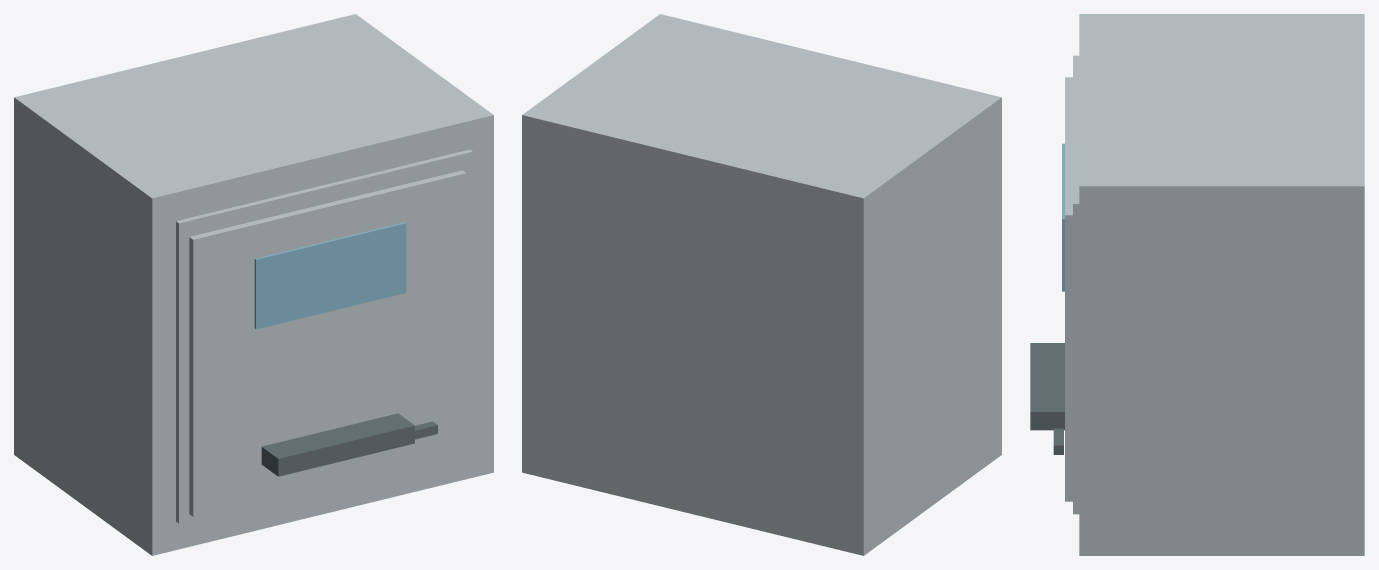
File: atm.glb
3 views of the same model, side by side, from view 1: azimuth 30°, elevation 25°; view 2: azimuth 150°, elevation 25°; view 3: azimuth 270°, elevation 25° (orthographic). The views are drawn at different scales.
Size of the model in its own units: 1 by 1 by 0.82.
